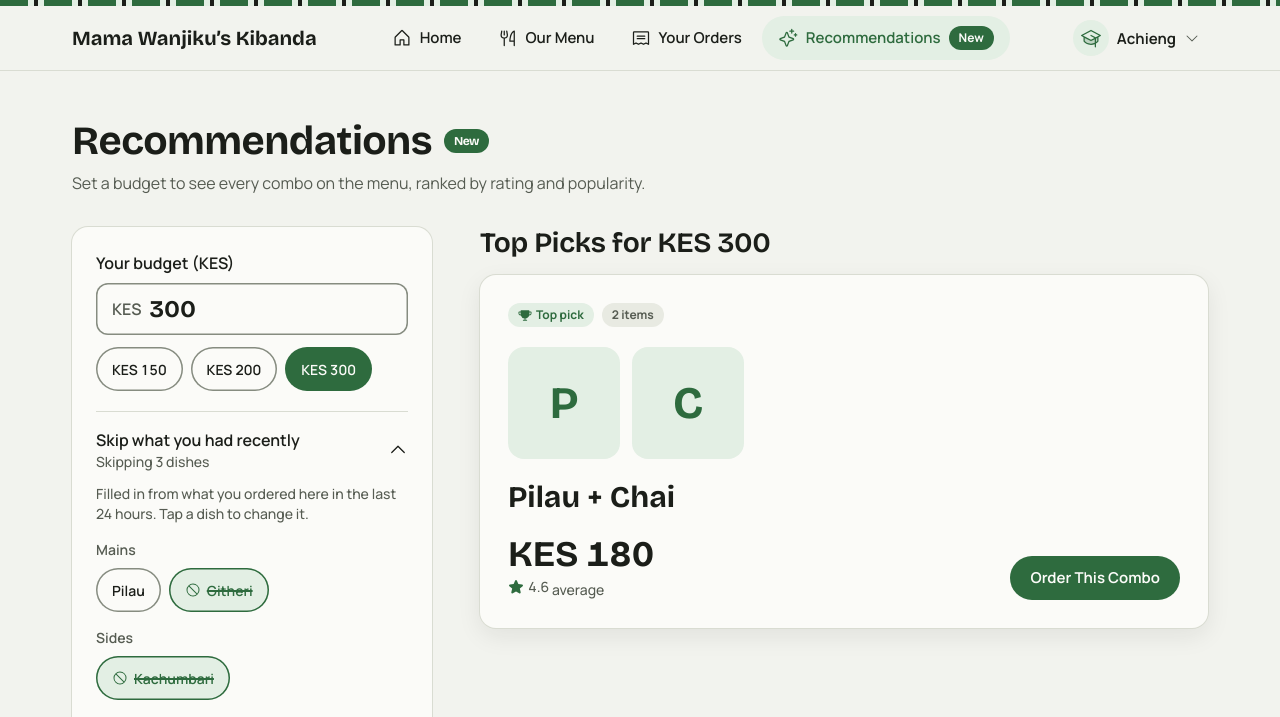
it: Recommendations › quick budget buttons change the budget
The image size is (1280, 717).
Click the button named "KES 150" at (139, 369), box [96, 347, 183, 391]
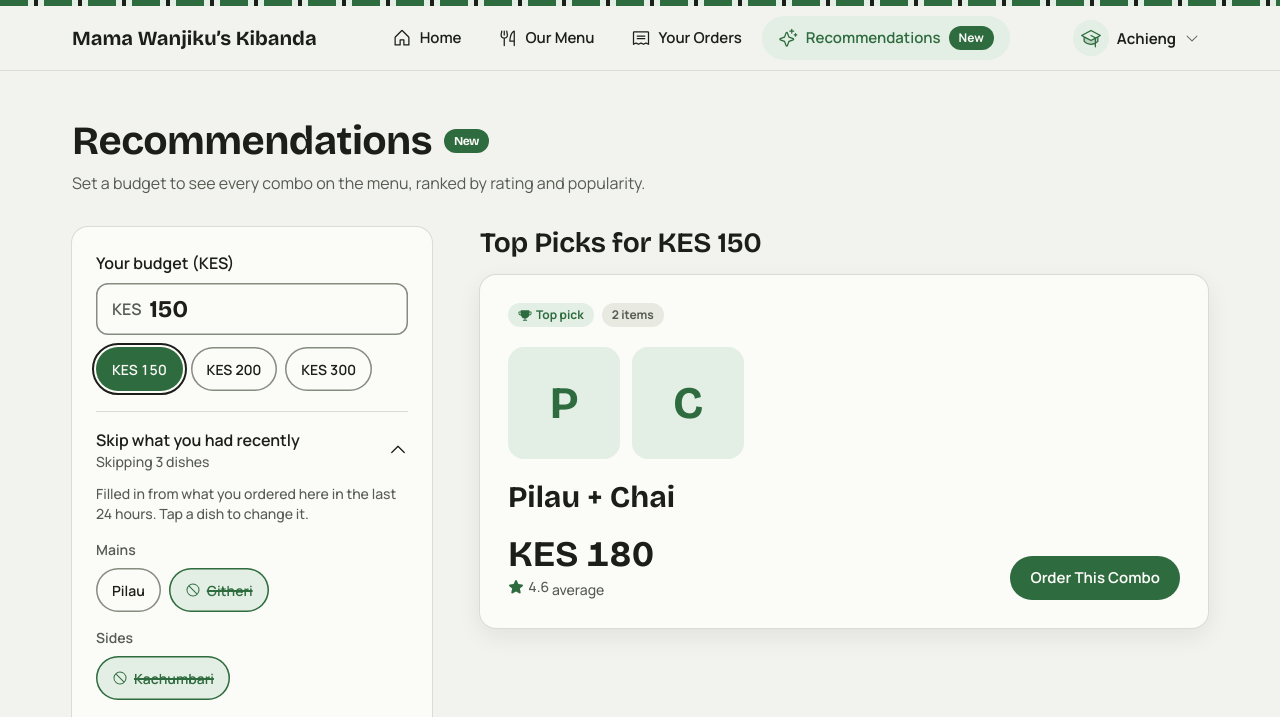
Check: the field labelled "Your budget (KES)" holds "150", box [149, 293, 392, 325]
